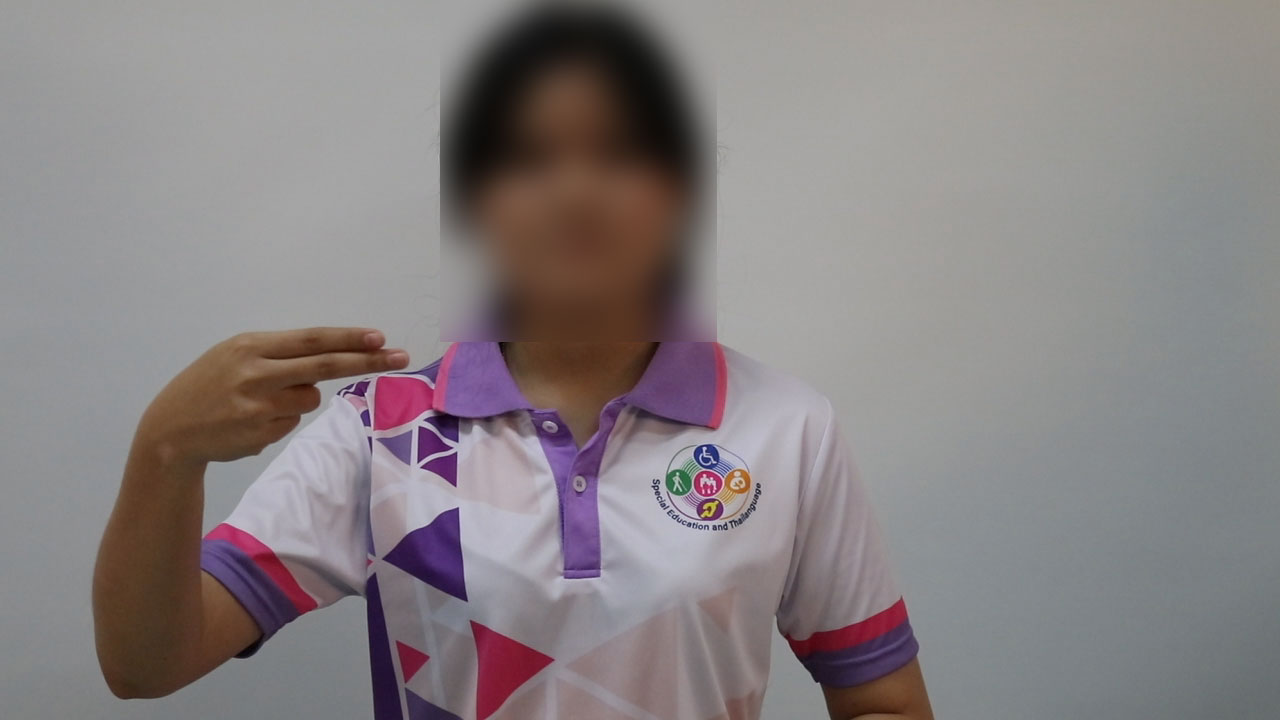hor: (138, 310, 422, 477)
